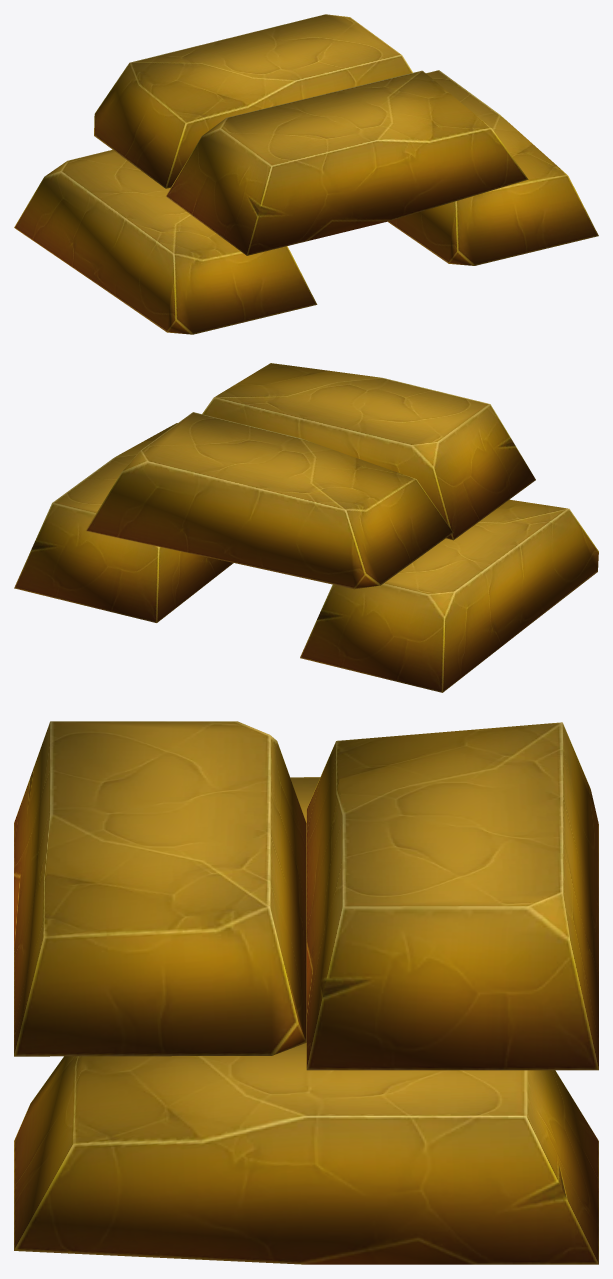
The model's file is Gold_Pile_3.glb.
The picture shows the model from 3 angles, top to bottom: view 1: azimuth 30°, elevation 25°; view 2: azimuth 150°, elevation 25°; view 3: azimuth 270°, elevation 25°; orthographic projection. The views are drawn at different scales.
Visible parts, largest first — view 1: Gold-10; view 2: Gold-10; view 3: Gold-10.
Part boxes in pixels (left/top/right/bottom): Gold-10: left=14, top=14, right=598, bottom=334; Gold-10: left=14, top=363, right=598, bottom=692; Gold-10: left=14, top=721, right=598, bottom=1264.
Size of the model in its own units: 0.495 by 0.165 by 0.33.
1 material, 1 textured.
